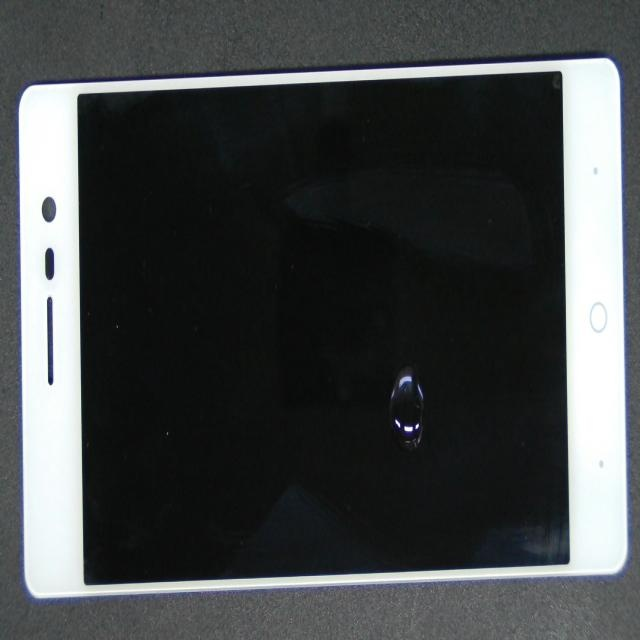oil: (202, 151, 596, 560)
